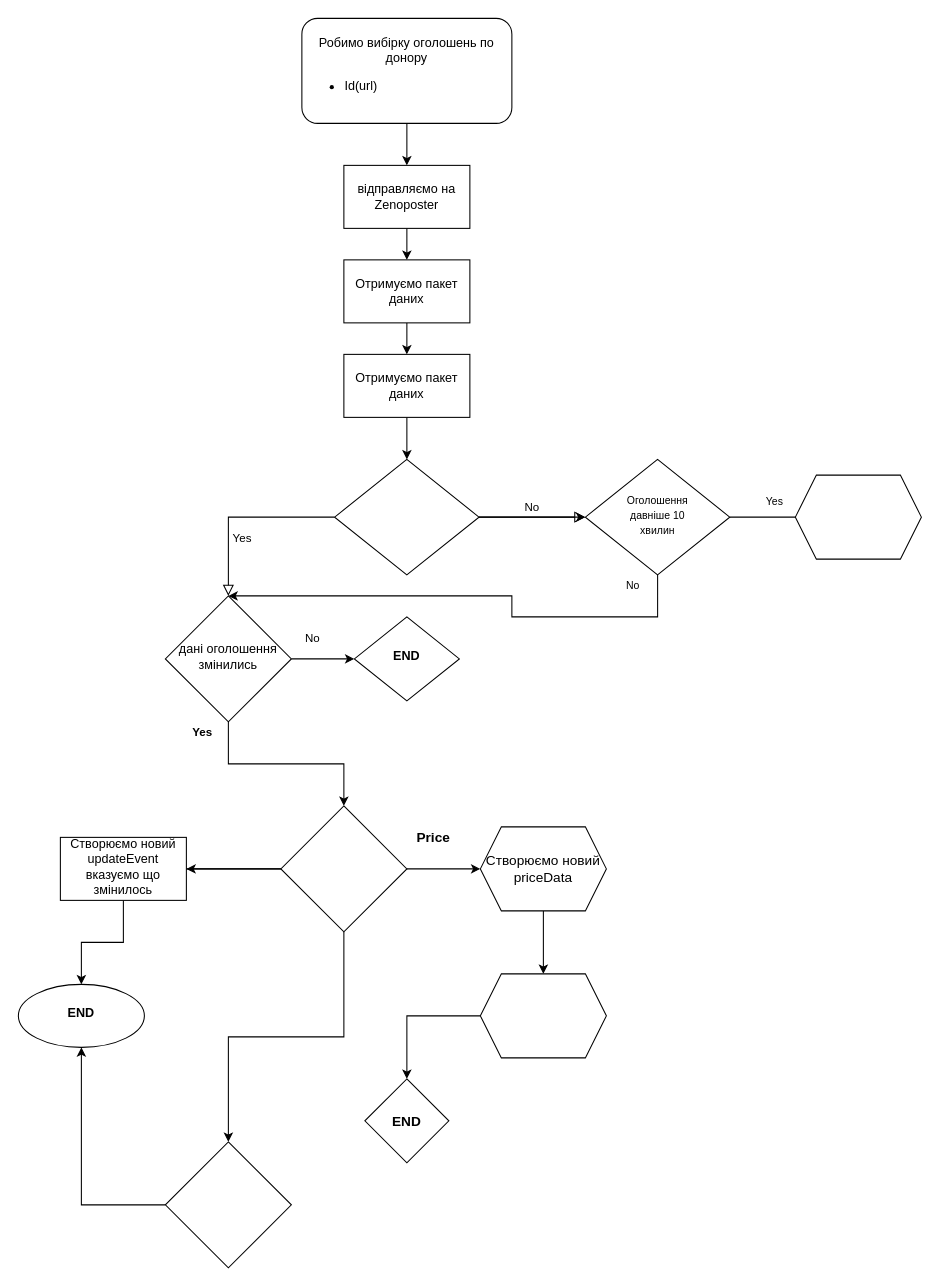
Image size: 940x1286. Some labels were removed from this diagram. Here are the shapes that lost their labels. From the top down, the centre of each, then its label:
(406,516): Оголошення активне
(857,516): Міняємо статус на модерації
(343,868): перевіряємо що змінилось
(542,1015): Додаємо до оголошення
(227,1204): Пишемо нові дані в sorceData оголошення
